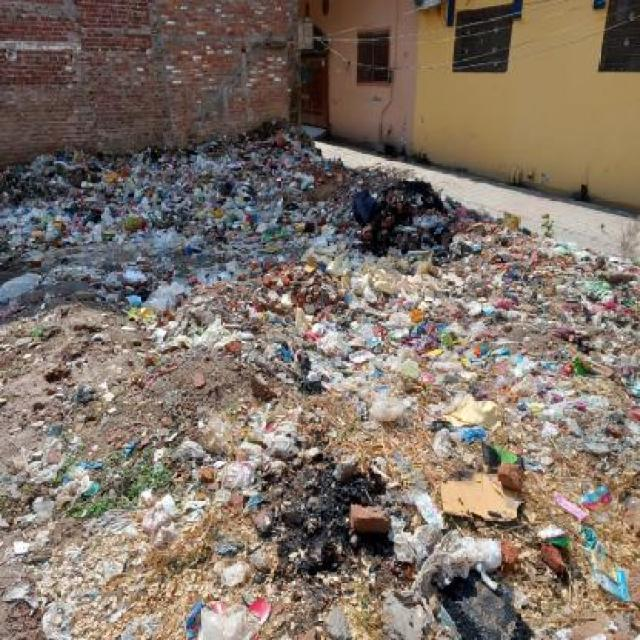garbage: (0, 134, 639, 640)
